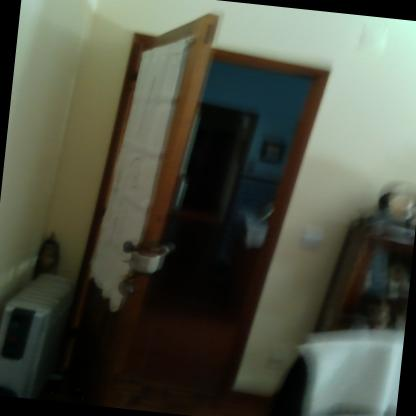semi: (65, 0, 340, 415)
